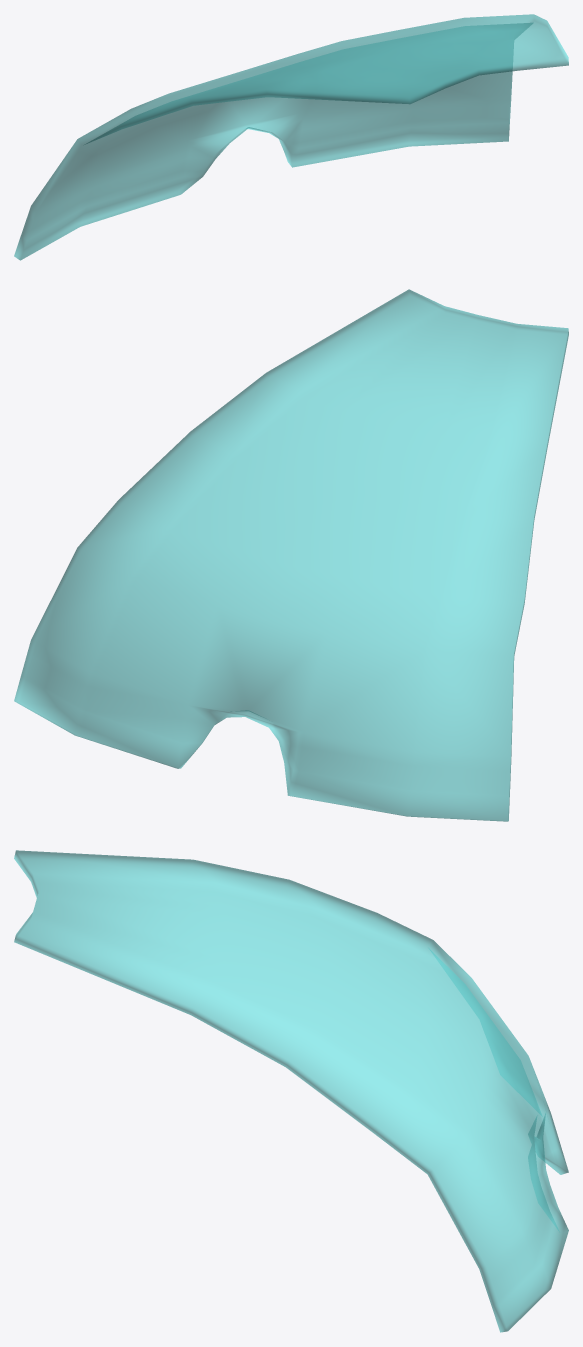
File: glass_door_low.fbx
3 renders of one model, top to bottom at view 1: azimuth 30°, elevation 25°; view 2: azimuth 150°, elevation 25°; view 3: azimuth 270°, elevation 25°, orthographic. The views are drawn at different scales.
Parts seen in each view (by area): view 1: glass; view 2: glass; view 3: glass.
Part boxes in pixels (x1,y1,x2,y2): glass: (14,14,568,260); glass: (14,289,568,821); glass: (14,850,568,1332).
Bounding box in the file's own units: 2658 × 1494 × 2395.
